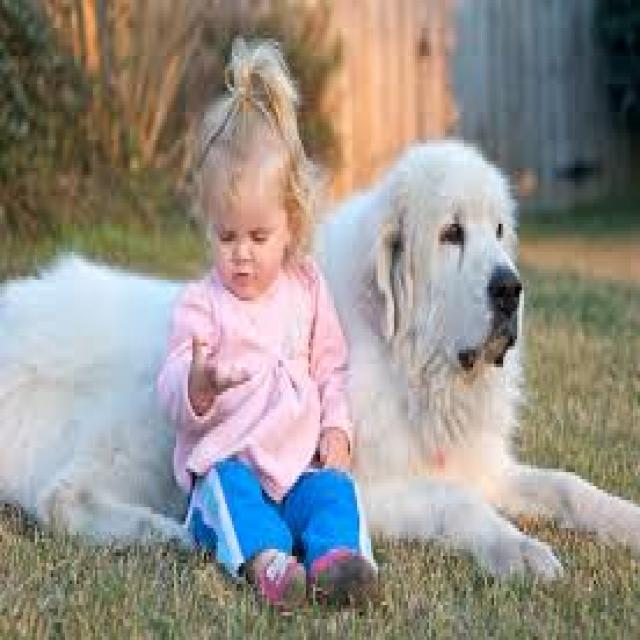Dog: (360, 130, 536, 422)
